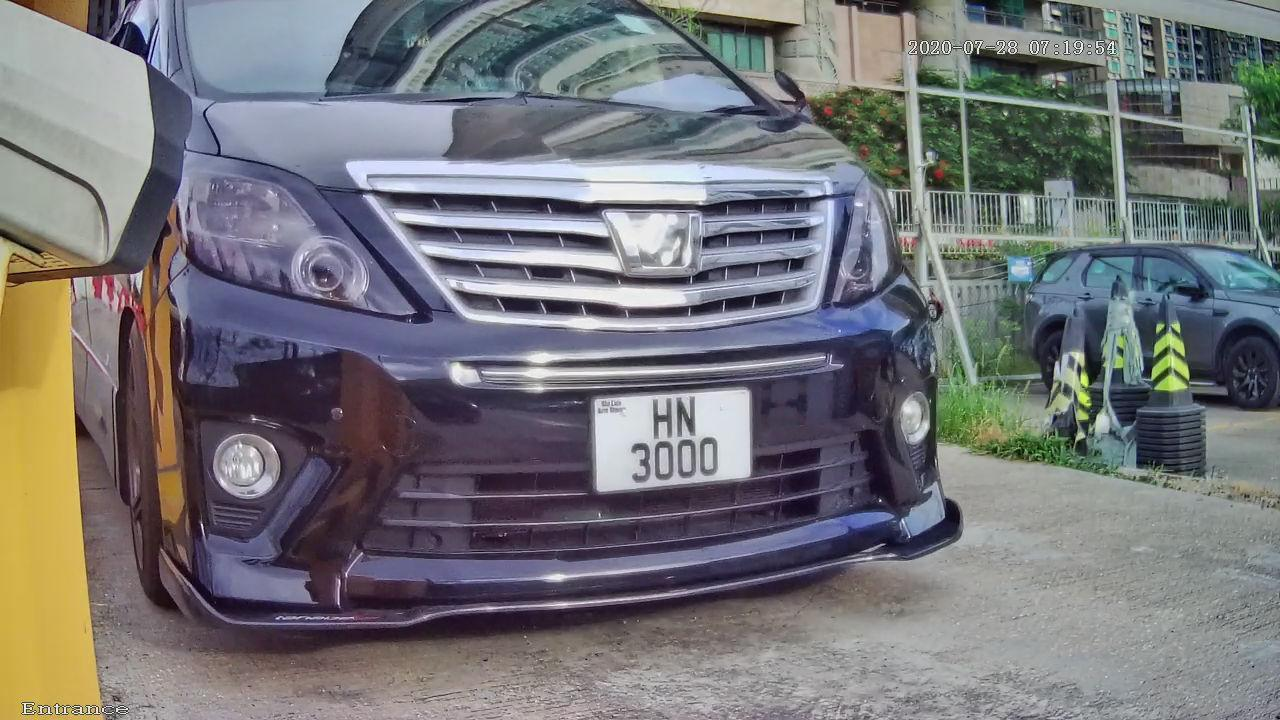privatecar: (12, 13, 1138, 679)
